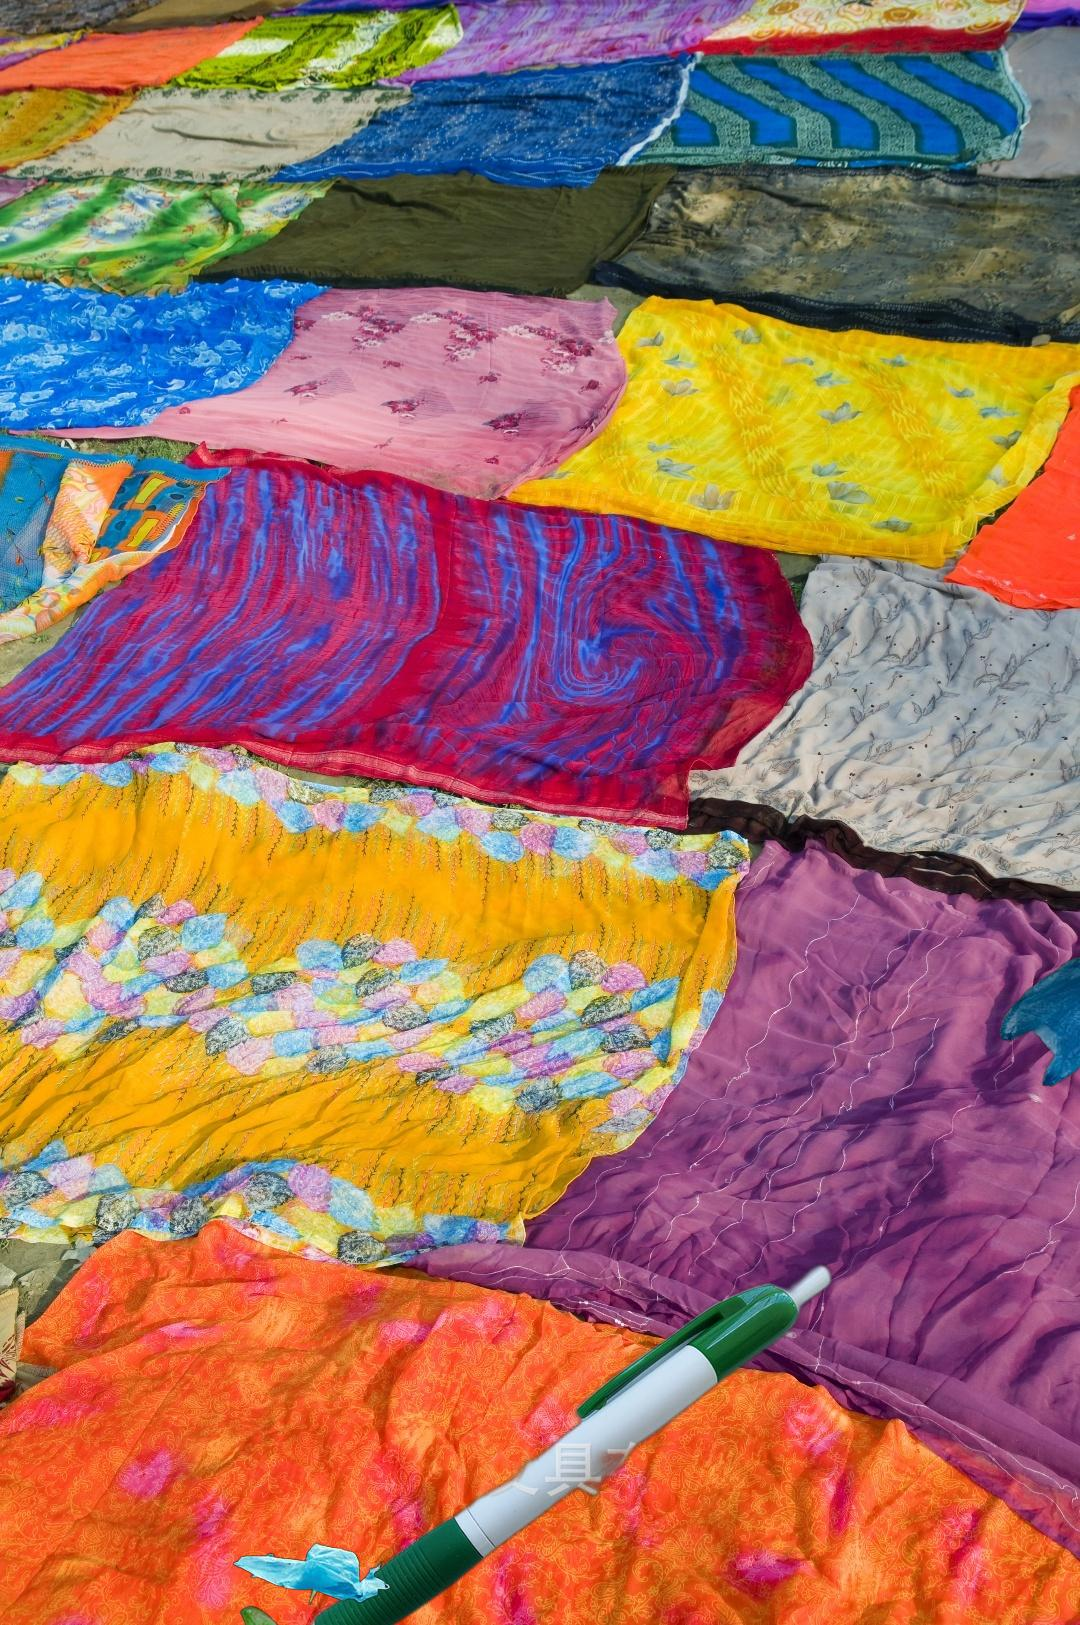penholder: (253, 1259, 839, 1625)
plastic-bag: (176, 1541, 392, 1625), (997, 950, 1080, 1090)
